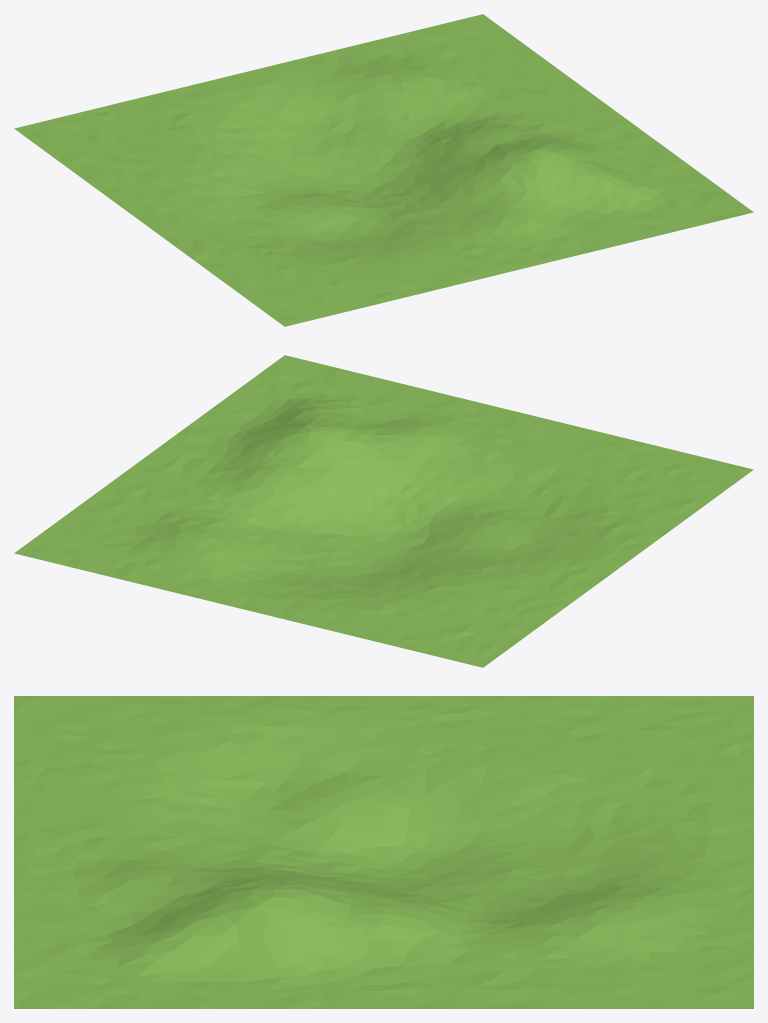
File: MT_Terrain_L_b_16.fbx
3 renders of one model, top to bottom at view 1: azimuth 30°, elevation 25°; view 2: azimuth 150°, elevation 25°; view 3: azimuth 270°, elevation 25°, orthographic. The views are drawn at different scales.
Visible parts, largest first — view 1: MT_Terrain_L_b_16; view 2: MT_Terrain_L_b_16; view 3: MT_Terrain_L_b_16.
Boxes of the visible parts, x1,y1,x2,y2 form: MT_Terrain_L_b_16: (14, 14, 753, 326); MT_Terrain_L_b_16: (14, 355, 753, 667); MT_Terrain_L_b_16: (14, 696, 753, 1008).
Size of the model in its own units: 10000 by 852 by 10000.
